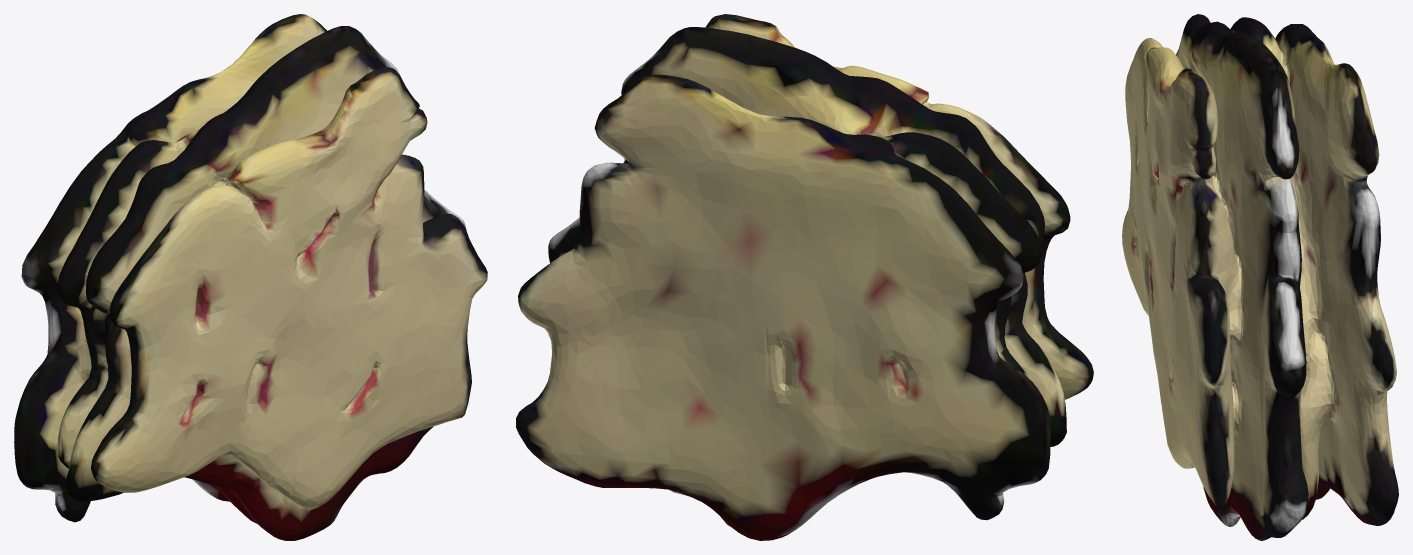
File: skin.glb
The picture shows the model from 3 angles, left to right: view 1: azimuth 30°, elevation 25°; view 2: azimuth 150°, elevation 25°; view 3: azimuth 270°, elevation 25°; orthographic projection. The views are drawn at different scales.
Visible parts, largest first — view 1: geometry_0; view 2: geometry_0; view 3: geometry_0.
Part boxes in pixels (box(x1,y1,x2,y2)): geometry_0: box(14, 14, 487, 540); geometry_0: box(516, 14, 1093, 540); geometry_0: box(1122, 14, 1398, 540).
Size of the model in its own units: 0.6075 by 0.5938 by 0.3059.
